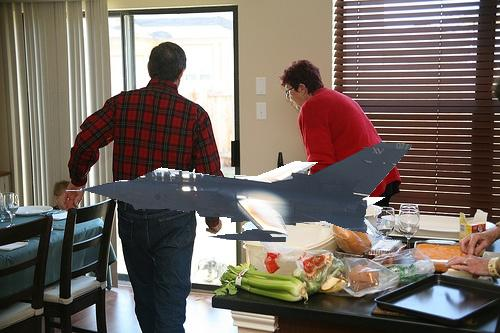tampered: (67, 143, 412, 242)
